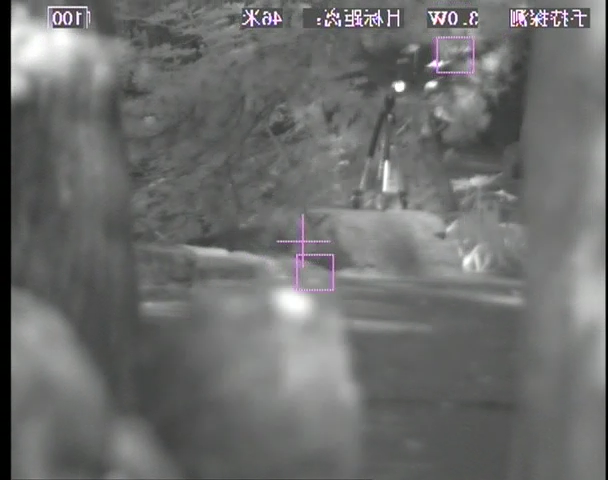my: (392, 79, 406, 93)
